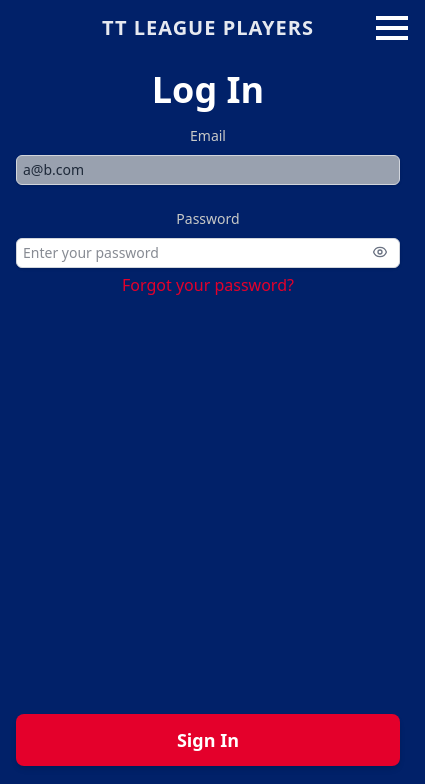
Login page › asks to reload the page when the auth initialisation has failed
The image size is (425, 784).
Type "aA1!56789012" into the password field labelled "Password".
click(208, 253); type("aA1!56789012")  # box [16,238,400,268]
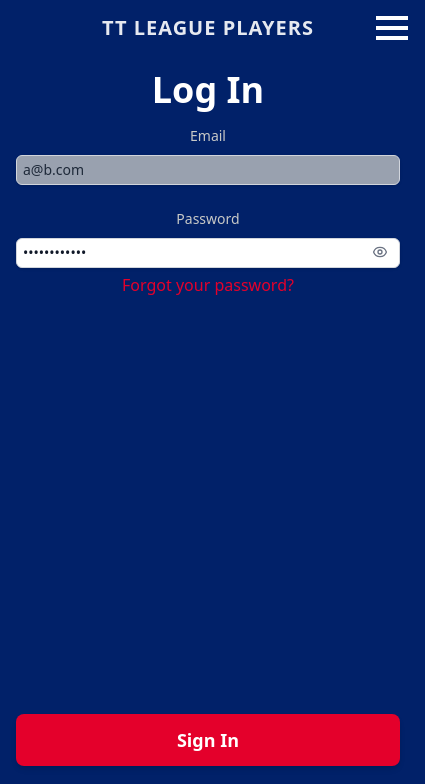
Click the button with test id "login-submit-button".
click(208, 740)  # box [16,714,400,766]
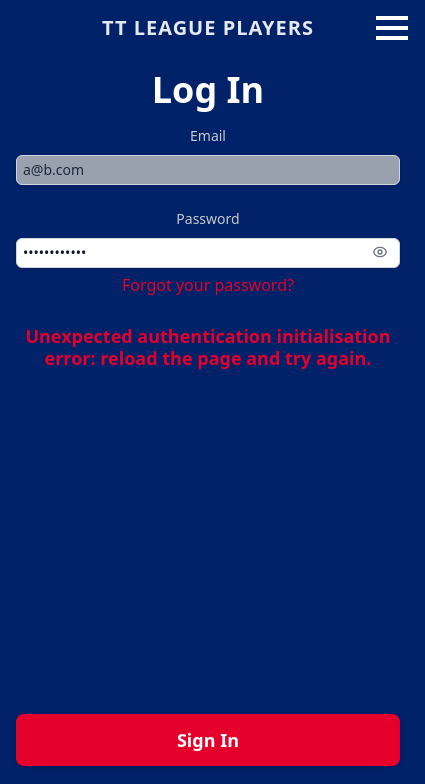
Result: the text with test id "login-error-message" reads "Unexpected authentication initialisation error: reload the page and try again." at [25,324,391,370]
